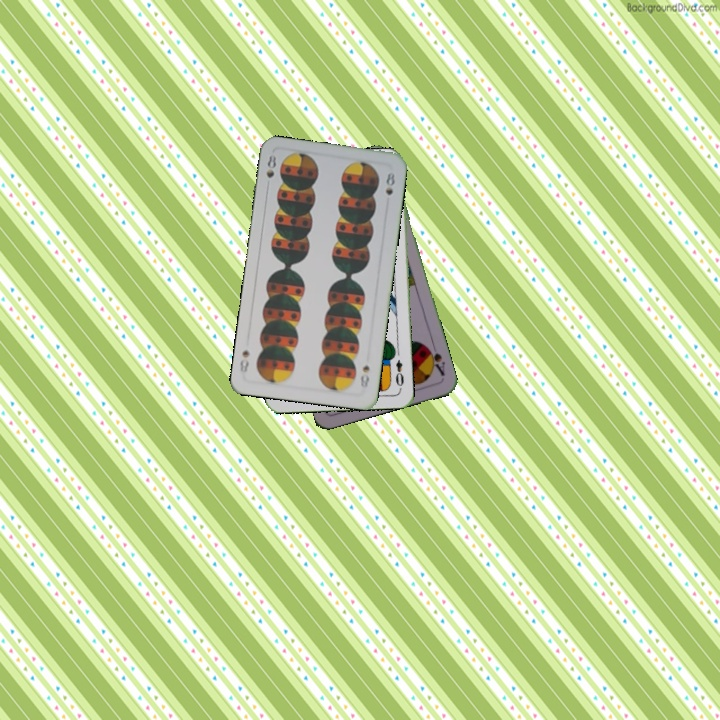EO: (392, 356, 406, 392)
S8: (262, 150, 279, 180), (356, 361, 372, 391)
SA: (423, 340, 447, 379)
